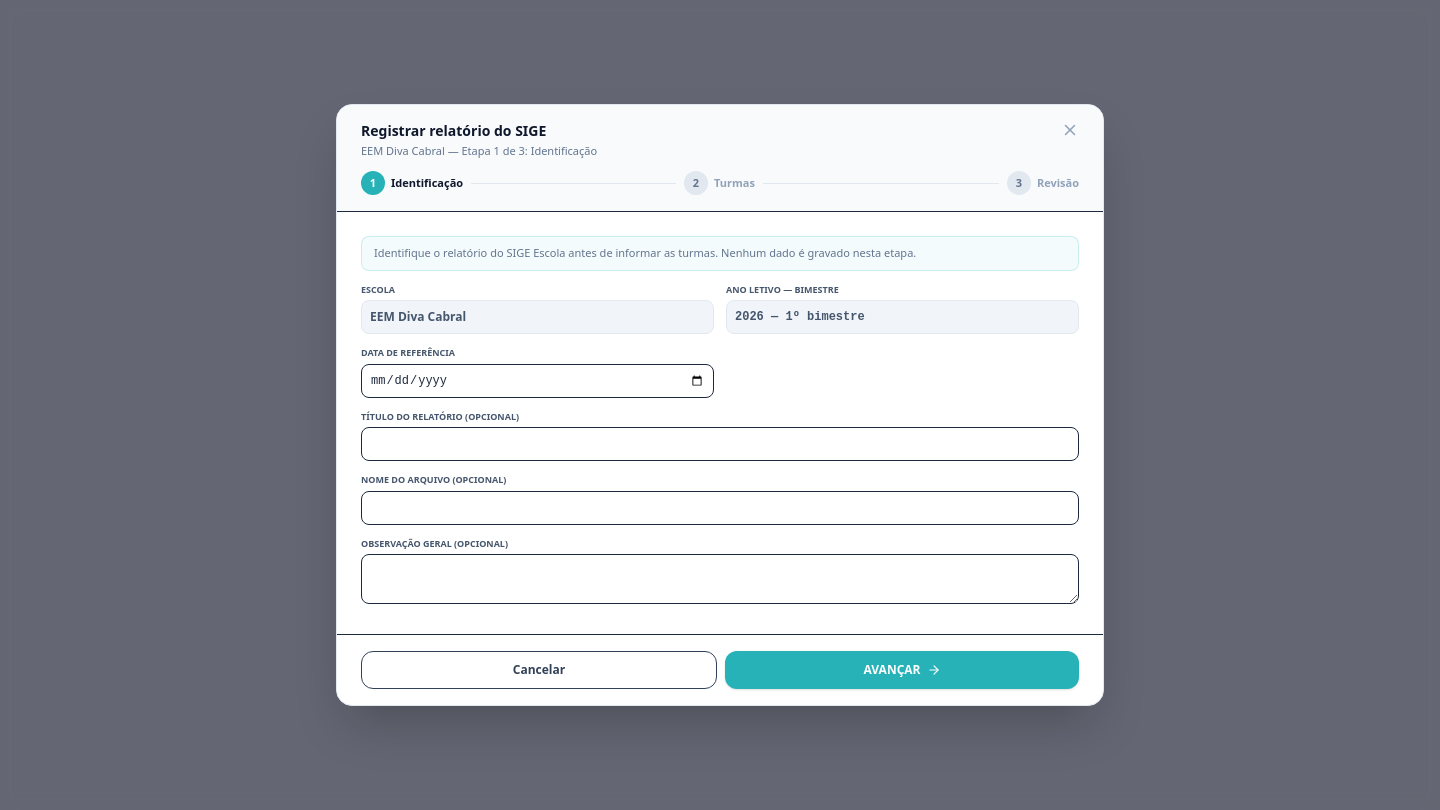
Test: SigeReportModal › não avança para a etapa de turmas sem informar a data de referência
The width and height of the screenshot is (1440, 810).
Click the button "Avançar" at (902, 670), box [725, 651, 1079, 689]
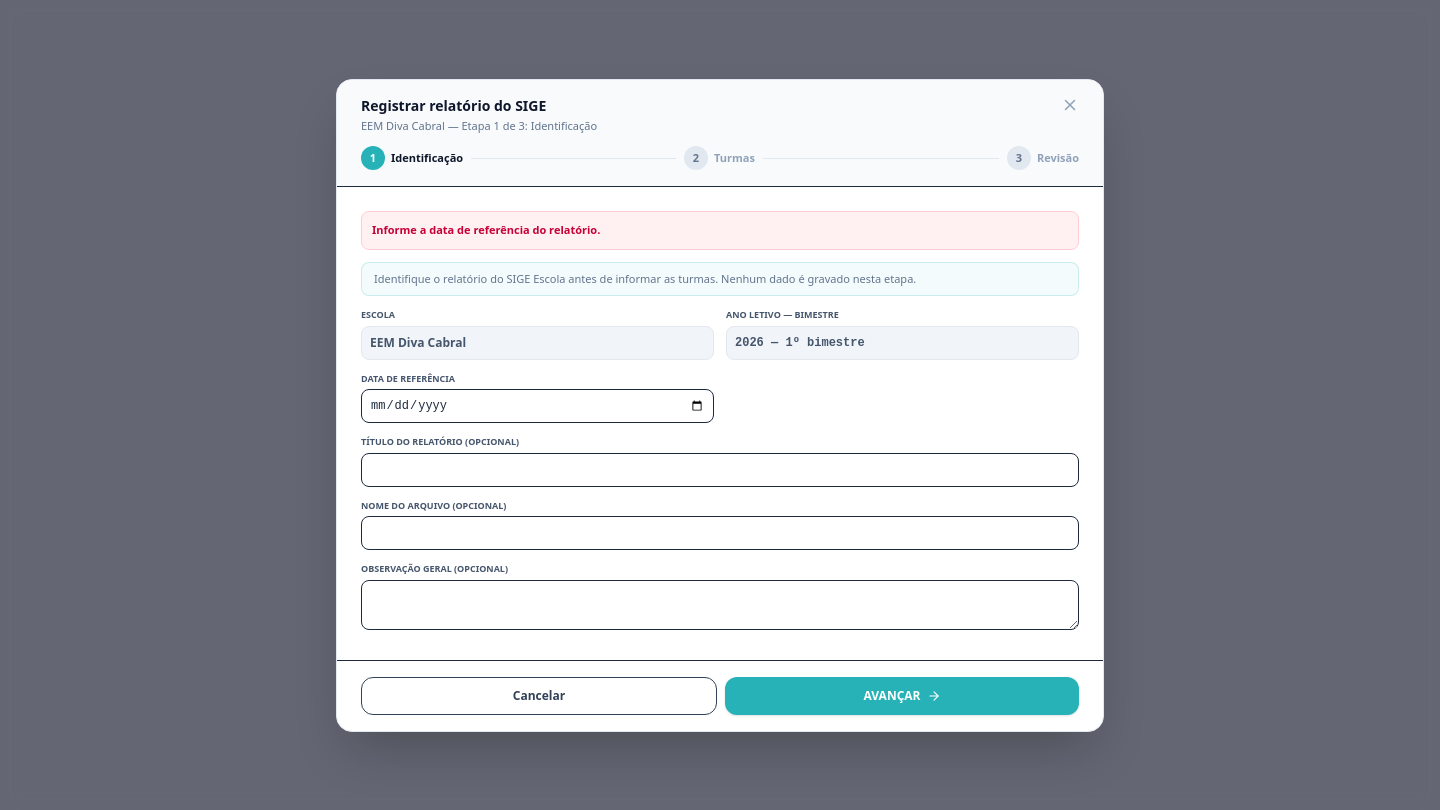
Expected: the text "EEM Diva Cabral — Etapa 1 de 3: Identificação" is shown, [361, 118, 597, 134]
Now the text "Informe a data de referência do relatório." is shown, box [361, 211, 1079, 250]
